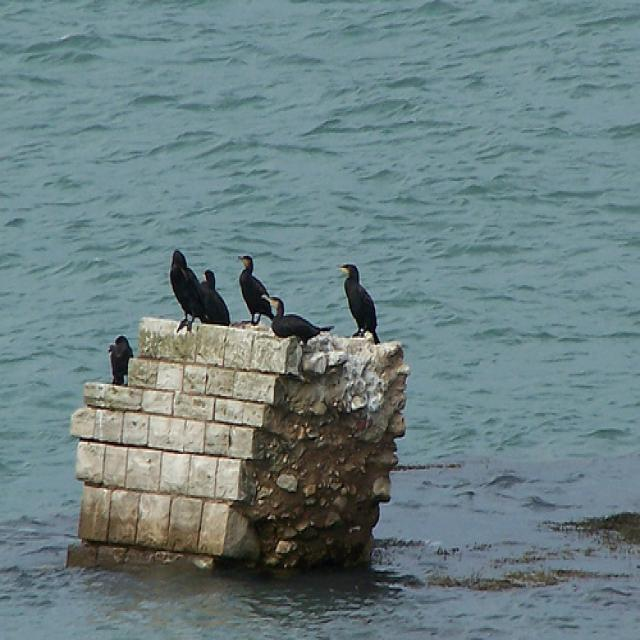bird: (265, 295, 338, 346), (338, 261, 383, 341), (165, 243, 204, 332), (236, 252, 278, 325), (195, 266, 232, 327), (108, 332, 136, 389)
